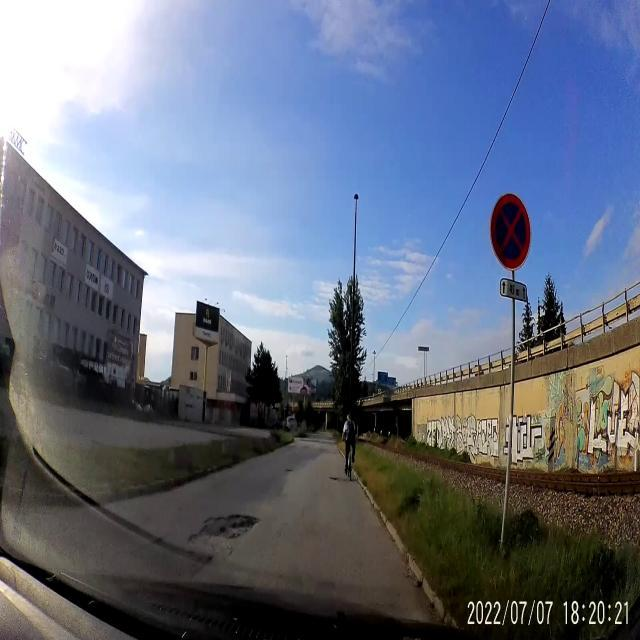Pothole: (192, 504, 258, 550), (328, 473, 348, 486), (284, 466, 294, 476)
